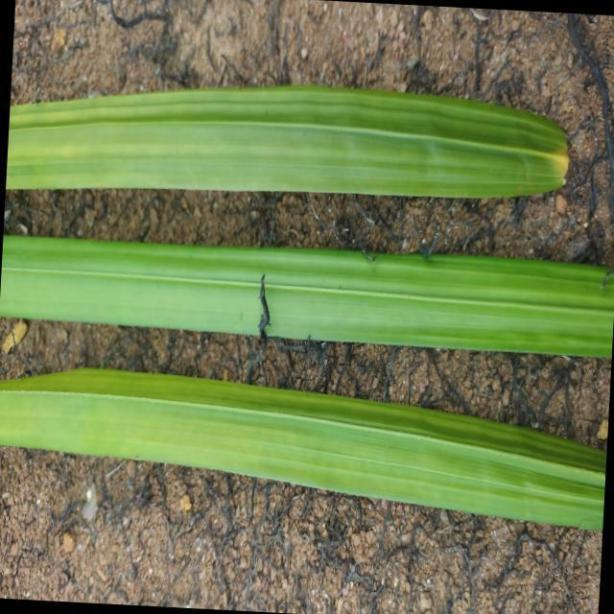nitrogen: (1, 366, 614, 524), (0, 227, 614, 352), (3, 72, 571, 200)
